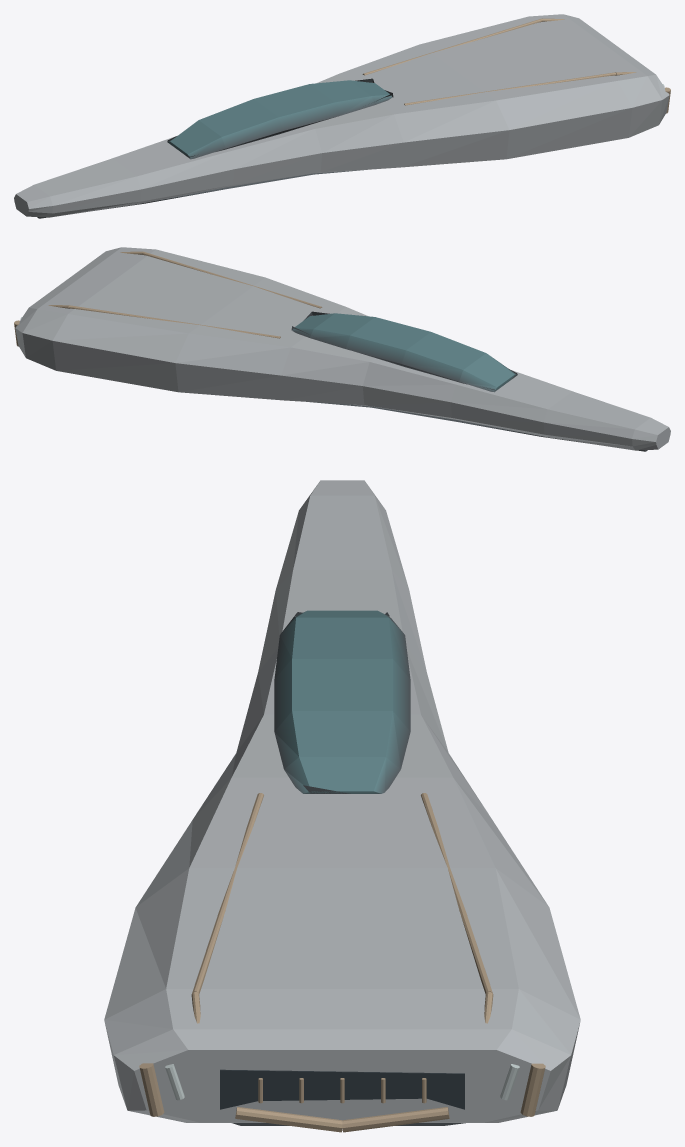
Rendered from jetjet_silver_parked.glb.
3 views of the same model, one above another, from view 1: azimuth 30°, elevation 25°; view 2: azimuth 150°, elevation 25°; view 3: azimuth 270°, elevation 25° (orthographic). The views are drawn at different scales.
Visible parts, largest first — view 1: hull_0, cockpit_frame_2, bonnet_edge_3, lower_keel_1; view 2: hull_0, cockpit_frame_2, bonnet_edge_3, lower_keel_1; view 3: hull_0, cockpit_frame_2, front_grille_7, bonnet_edge_3, front_chevron_6, front_corner_4.
Boxes of the visible parts, x1=… form: hull_0: x1=14, y1=14, x2=669, y2=217; cockpit_frame_2: x1=167, y1=78, x2=393, y2=159; bonnet_edge_3: x1=362, y1=18, x2=636, y2=105; lower_keel_1: x1=37, y1=169, x2=367, y2=218; hull_0: x1=15, y1=247, x2=670, y2=450; cockpit_frame_2: x1=291, y1=311, x2=517, y2=392; bonnet_edge_3: x1=48, y1=251, x2=322, y2=338; lower_keel_1: x1=310, y1=402, x2=647, y2=451; hull_0: x1=104, y1=480, x2=580, y2=1122; cockpit_frame_2: x1=274, y1=610, x2=410, y2=793; front_grille_7: x1=220, y1=1069, x2=464, y2=1109; bonnet_edge_3: x1=191, y1=793, x2=493, y2=1023; front_chevron_6: x1=235, y1=1107, x2=449, y2=1132; front_corner_4: x1=139, y1=1063, x2=545, y2=1116.
Bounding box in the file's own units: 10.17 × 1.23 × 3.5.
